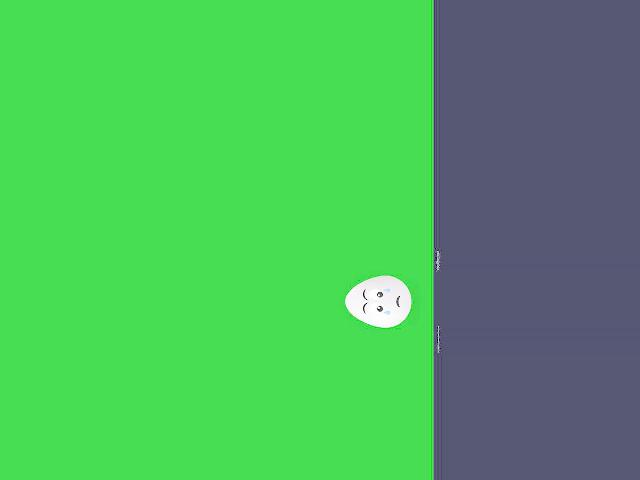egg: (345, 275, 411, 327)
